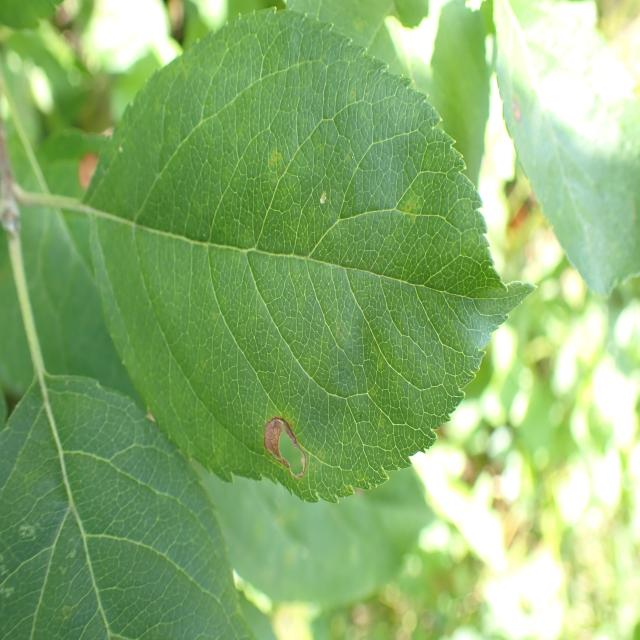Black Rot: (250, 381, 324, 502), (68, 97, 111, 219)
